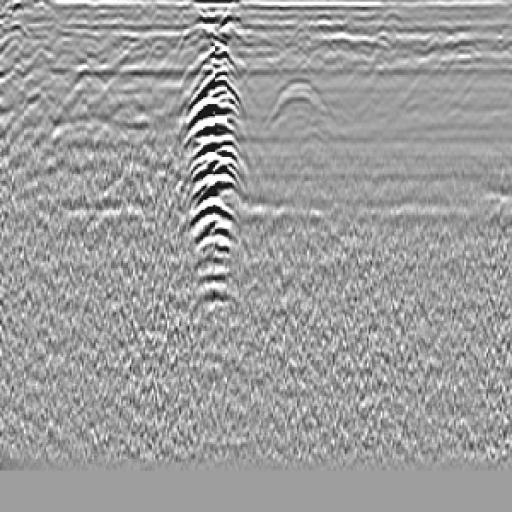metalic: (159, 26, 264, 320)
nonmetalic: (256, 69, 356, 141)
